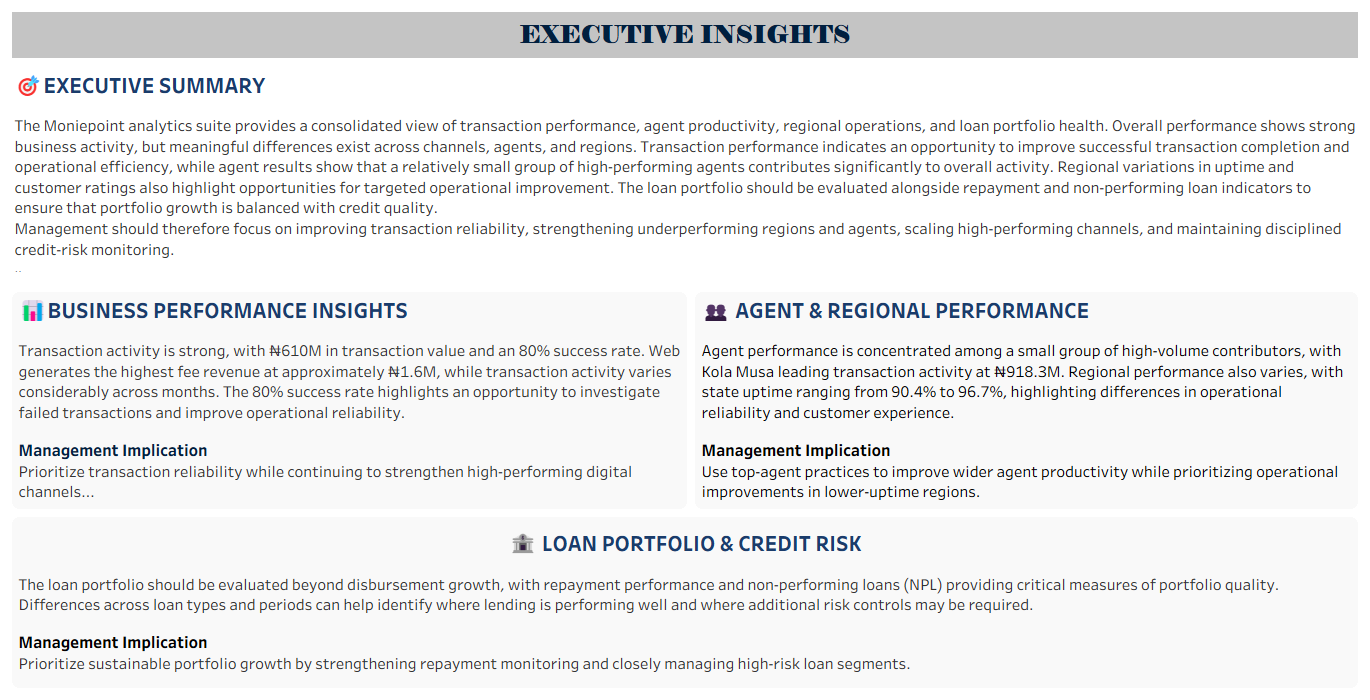

What the dashboard file says about the page in this screenshot:
{"tool":"tableau","page":{"name":"Executive Insight ","canvas":[1370,700],"ordinal":2},"visuals":[{"type":"title","box":[8,8,1354,54]},{"type":"text","box":[8,62,1354,226]},{"type":"text","box":[8,288,683,225]},{"type":"text","box":[691,288,671,225]},{"type":"text","box":[8,513,1354,179]}]}

Visuals, with their boxes in screenshot pixels (x1, y1, x2, y2), scaled from the page's 1370x700 canvas onto the 1370x700 screenshot:
title: (8,8,1362,62)
text: (8,62,1362,288)
text: (8,288,691,513)
text: (691,288,1362,513)
text: (8,513,1362,692)
